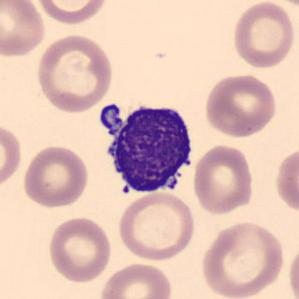Lymphocyte: (92, 96, 200, 200)
RBC: (198, 219, 287, 299), (34, 32, 116, 114), (115, 189, 197, 262), (203, 72, 279, 139), (191, 142, 256, 217), (46, 214, 113, 284), (230, 0, 297, 70), (20, 143, 90, 210), (98, 260, 174, 299), (0, 0, 47, 59), (32, 0, 110, 26), (272, 144, 298, 218), (0, 120, 24, 191), (285, 241, 299, 299), (267, 0, 298, 7)
